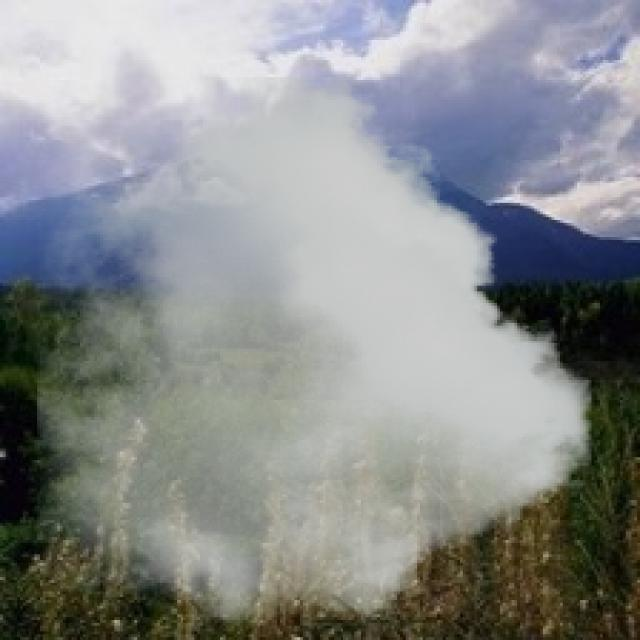Smoke: (37, 77, 592, 626)
